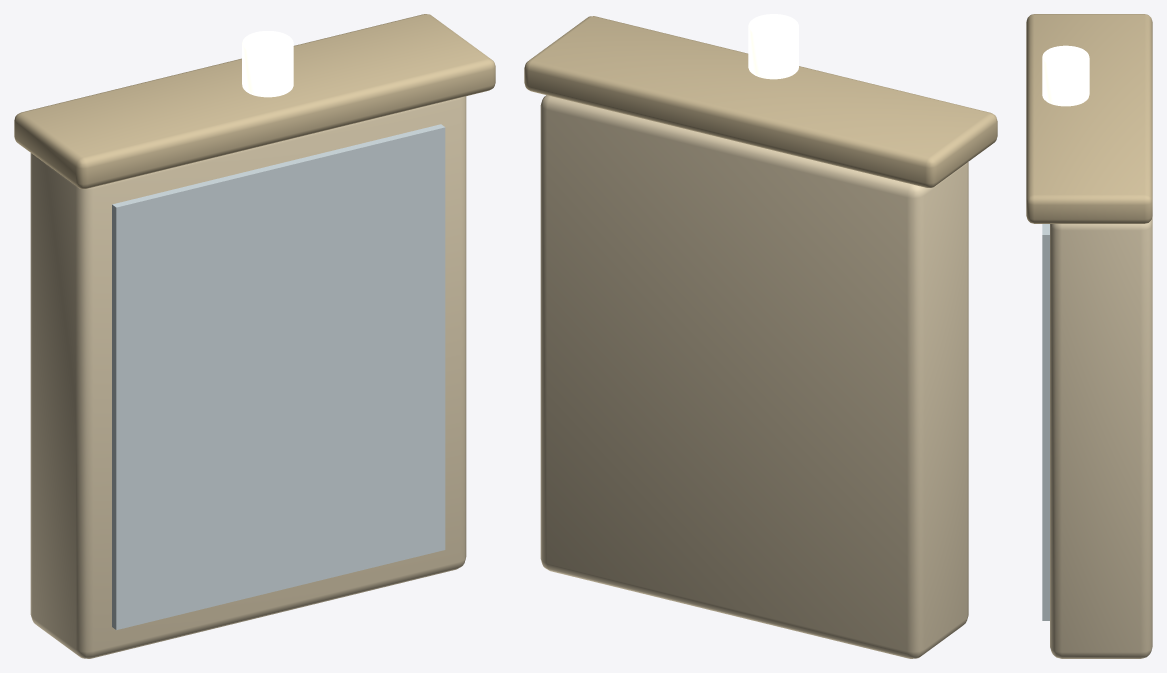
The model's file is mirror_cabinet.glb.
3 views of the same model, side by side, from view 1: azimuth 30°, elevation 25°; view 2: azimuth 150°, elevation 25°; view 3: azimuth 270°, elevation 25° (orthographic). The views are drawn at different scales.
Parts seen in each view (by area): view 1: mirror_cabinet; view 2: mirror_cabinet; view 3: mirror_cabinet.
Boxes of the visible parts, x1=… form: mirror_cabinet: x1=14, y1=14, x2=495, y2=658; mirror_cabinet: x1=524, y1=14, x2=997, y2=658; mirror_cabinet: x1=1026, y1=14, x2=1152, y2=658.
Size of the model in its own units: 0.56 by 0.73 by 0.16.
